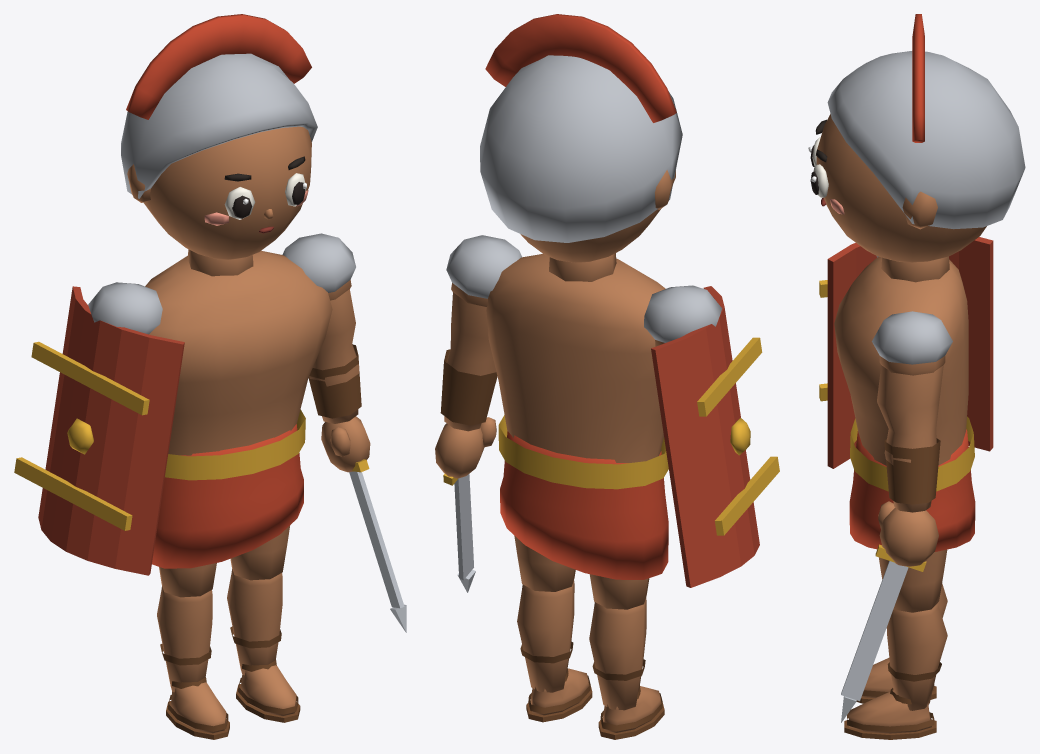
File: gladiator.glb
3 renders of one model, left to right at view 1: azimuth 30°, elevation 25°; view 2: azimuth 150°, elevation 25°; view 3: azimuth 270°, elevation 25°, orthographic. The views are drawn at different scales.
Visible parts, largest first — view 1: rumpf, itemL, kopfschmuck, kopf, huefte, armR, knieL, knieR, armL, itemR, beinR, beinL (+1 smaller); view 2: kopfschmuck, rumpf, itemL, huefte, armR, knieR, knieL, kopf, armL, beinR, itemR, beinL; view 3: kopfschmuck, rumpf, armR, kopf, itemL, knieR, huefte, itemR, beinR, knieL, augeR.
Boxes of the visible parts, x1,y1,x2,y2 form: rumpf: [145, 250, 332, 480]; itemL: [14, 286, 184, 575]; kopfschmuck: [121, 14, 317, 198]; kopf: [127, 126, 311, 276]; huefte: [152, 424, 303, 568]; armR: [282, 233, 370, 472]; knieL: [157, 586, 229, 739]; knieR: [227, 569, 300, 722]; armL: [88, 282, 162, 334]; itemR: [349, 459, 406, 632]; beinR: [230, 526, 289, 580]; beinL: [159, 563, 216, 597]; kopfschmuck: [480, 14, 682, 242]; rumpf: [486, 254, 668, 489]; itemL: [651, 286, 779, 587]; huefte: [500, 431, 668, 579]; armR: [435, 235, 521, 478]; knieR: [517, 580, 592, 722]; knieL: [589, 597, 664, 739]; kopf: [520, 170, 675, 281]; armL: [644, 285, 722, 346]; beinR: [514, 535, 575, 591]; itemR: [443, 473, 475, 592]; beinL: [589, 574, 649, 609]; kopfschmuck: [827, 14, 1025, 229]; rumpf: [834, 257, 974, 491]; armR: [872, 311, 952, 566]; kopf: [816, 114, 986, 282]; itemL: [819, 237, 993, 468]; knieR: [844, 602, 947, 739]; huefte: [849, 429, 975, 551]; itemR: [841, 544, 926, 722]; beinR: [879, 549, 947, 612]; knieL: [856, 583, 947, 703]; augeR: [810, 164, 828, 197].
Bounding box in the file's own units: 1.2 × 2.43 × 0.6939.
